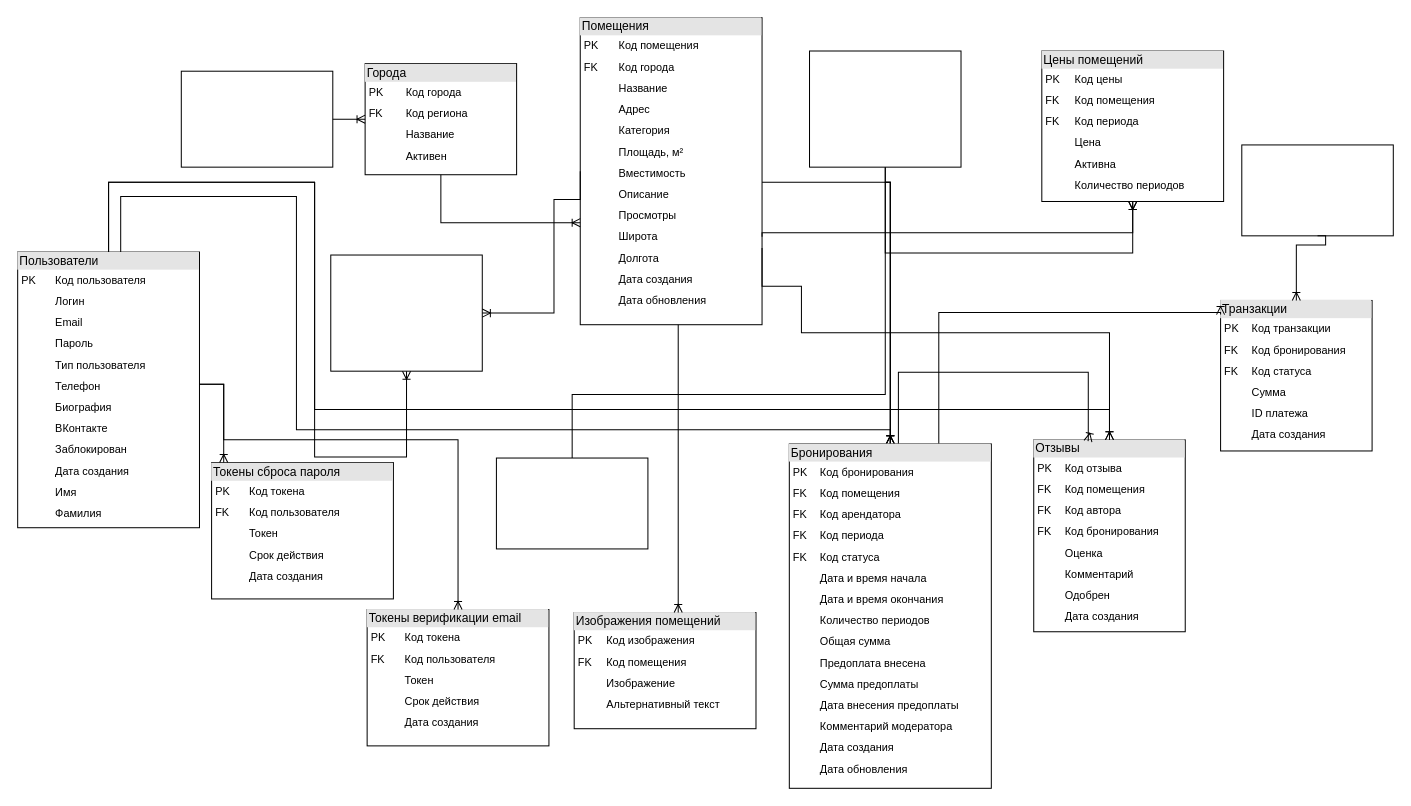
Image size: 1411x806. Some labels were removed from this diagram. Each missing label, with the box of its shape:
Избранное PK Код избранного FK Код пользователя FK Код помещения Дата добавления: (330, 254, 482, 371)
Периоды аренды PK Код периода Название Описание Количество часов: (809, 50, 961, 167)
Регионы PK Код региона Название Код региона: (180, 70, 333, 167)
Статусы бронирования PK Код статуса Код статуса Название: (495, 457, 648, 549)
Статусы транзакций PK Код статуса Код статуса Название: (1241, 144, 1393, 236)
